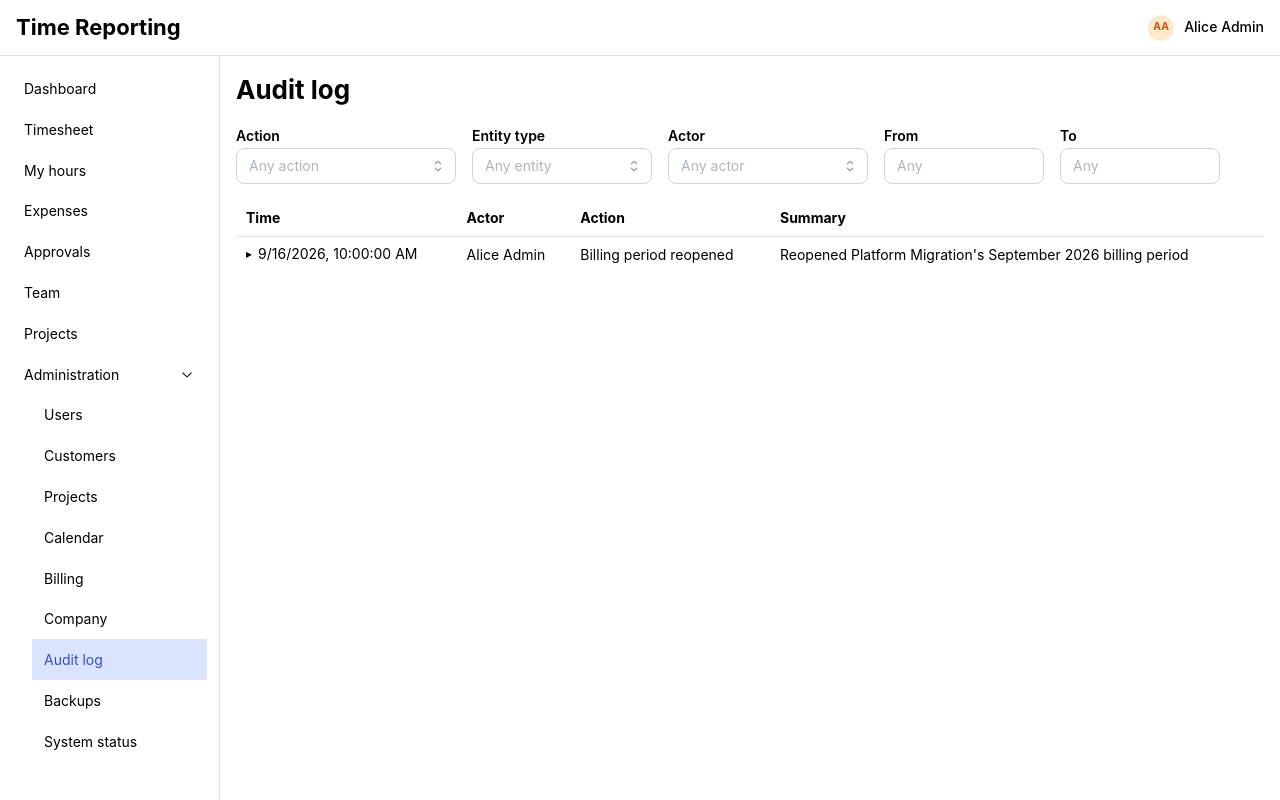
AdminAuditPage › expands a row to show its details
Expected: the text "Reopened Platform Migration's September 2026 billing period" is shown, [770,236,1264,272]
Expected: the text "\"project_name\"" is not shown
Click the button with aria-label "Expand details" at (332, 254), box [246,244,417,265]
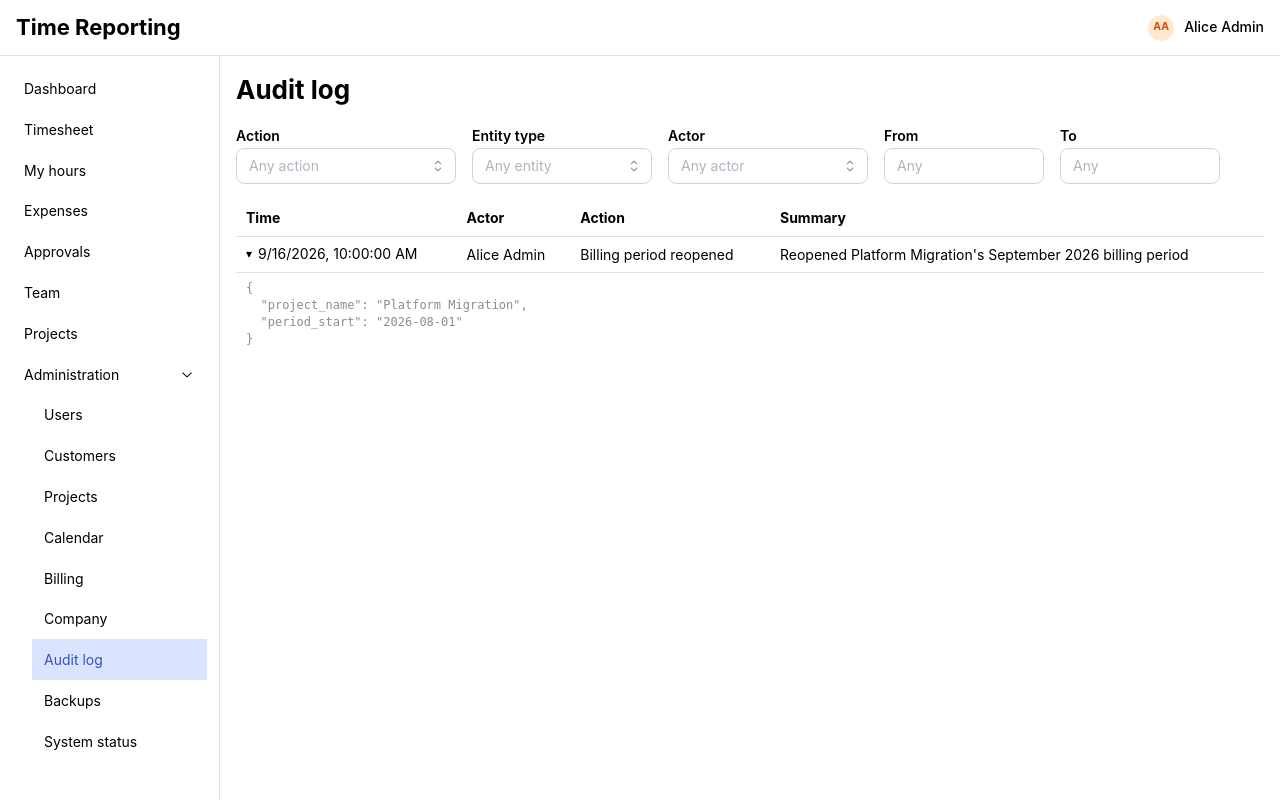
Result: the text "\"project_name\"" is shown at [246,281,528,346]
